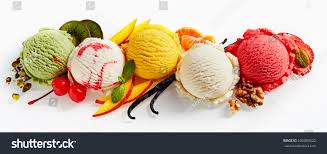ice-cream: (176, 44, 239, 105), (68, 38, 123, 89), (236, 35, 290, 86), (22, 28, 74, 79), (128, 29, 180, 79)
